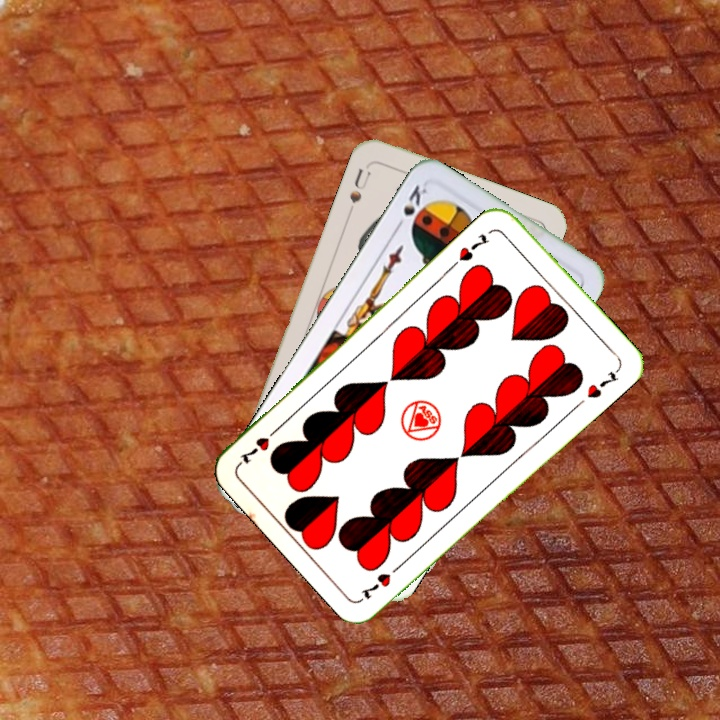H7: (356, 559, 406, 603), (454, 229, 492, 264)
SK: (391, 180, 430, 233)
SU: (344, 164, 374, 217)
